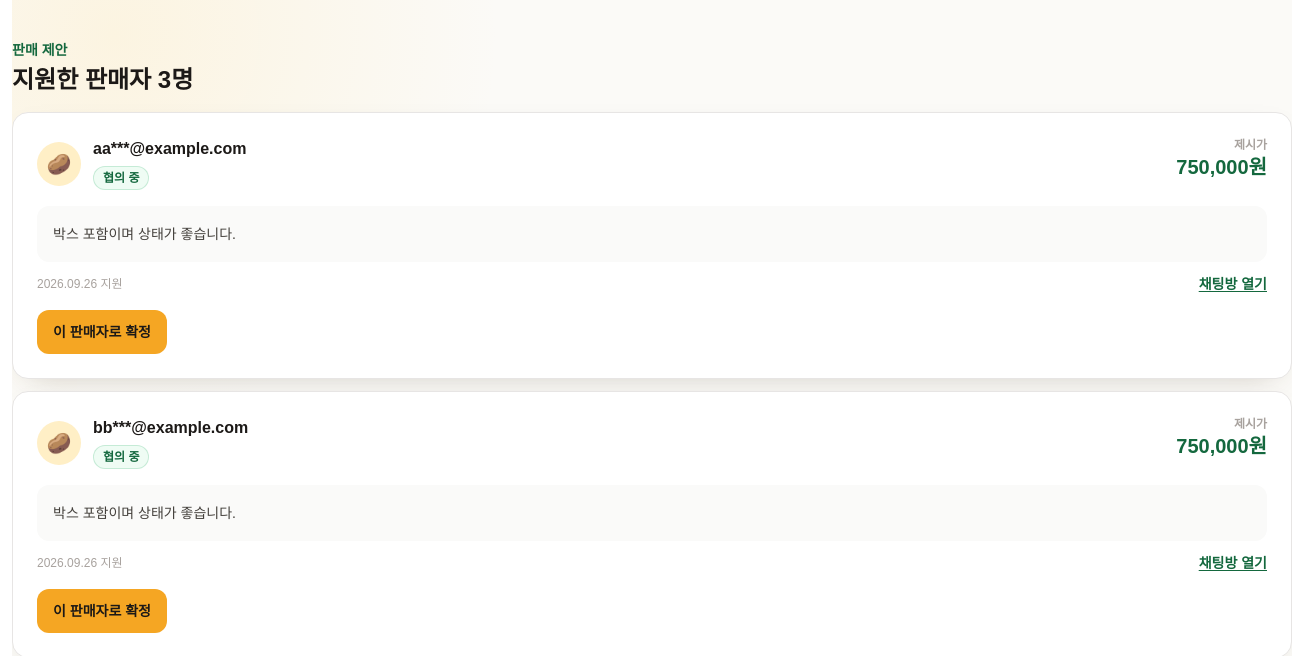
it: ApplicantList › owner + open 요청의 pending 지원에만 확정 버튼이 있고 다른 pending 수를 안내한다
The image size is (1292, 656).
Click the button "이 판매자로 확정" below "aa***@example.com". click: x=102, y=332
box: [37,310,167,354]
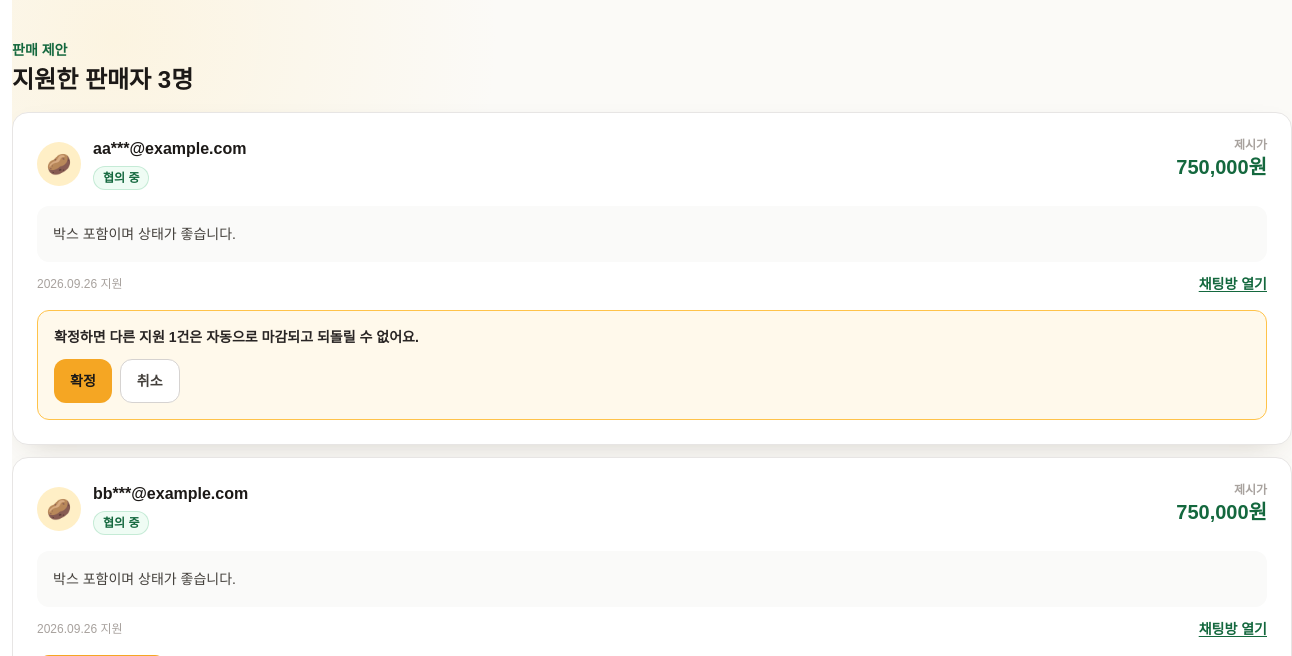
Expected: the text "확정하면 다른 지원 1건은 자동으로 마감되고 되돌릴 수 없어요." is shown, [54,329,419,345]
